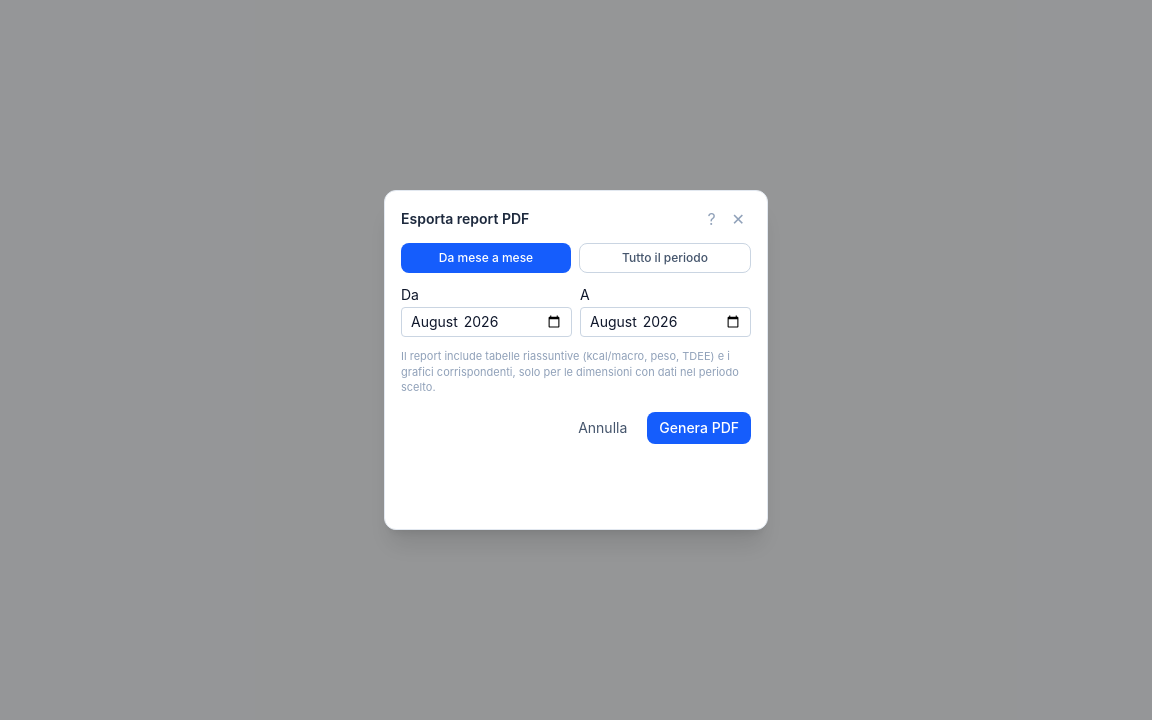
Test case: ReportPdfModal › ReportPdfModal_generazioneFallita_mostraLErroreSenzaChiudere
Step 1. Click the button "Tutto il periodo" → (665, 258), box [579, 243, 751, 273]
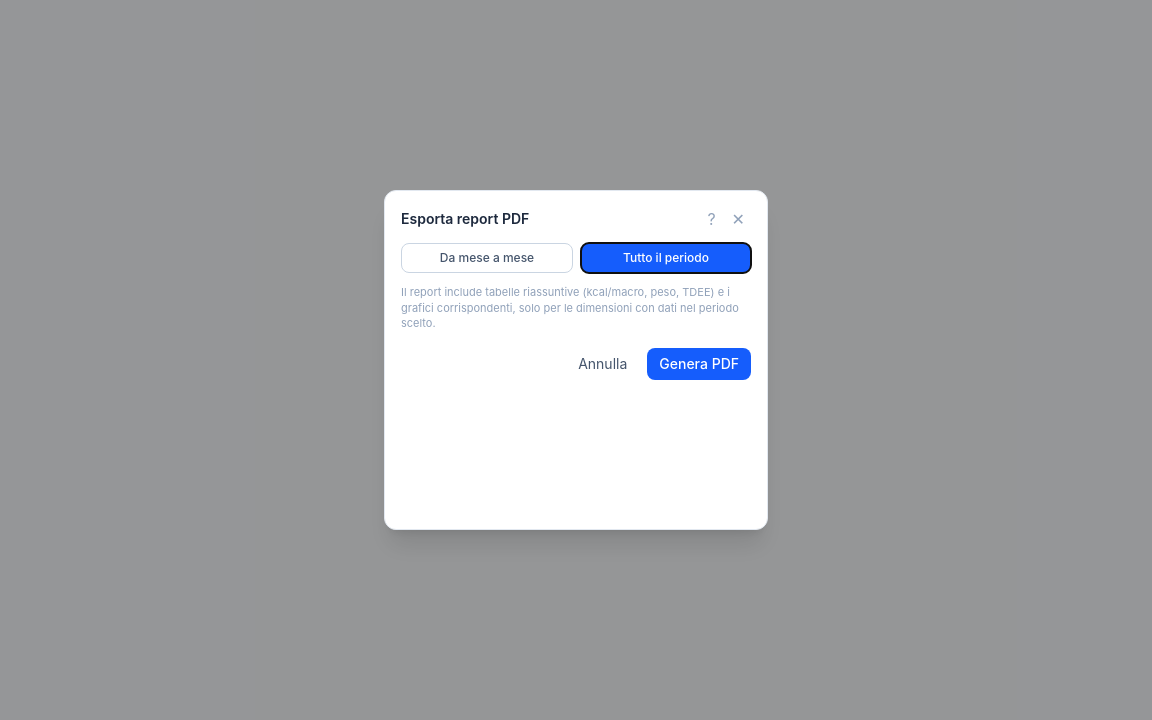
Step 2. Click the button "Genera PDF" → (699, 364), box [647, 348, 751, 380]
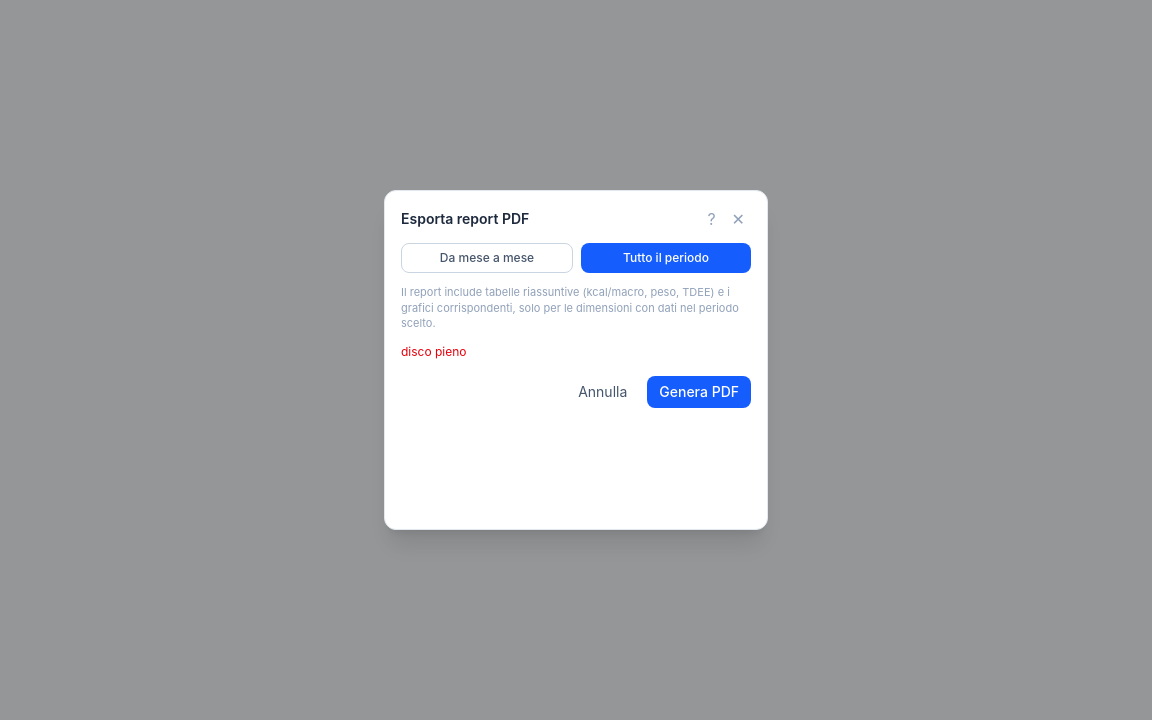
expect the text "disco pieno" is shown: met, box [401, 344, 467, 359]
